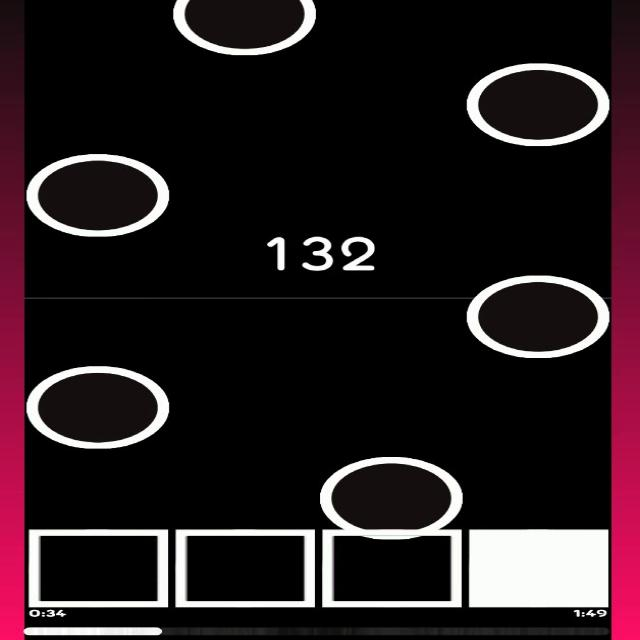note: (464, 268, 614, 362), (464, 58, 612, 148), (318, 452, 464, 541), (26, 150, 170, 240), (28, 363, 171, 450), (168, 0, 316, 58)
